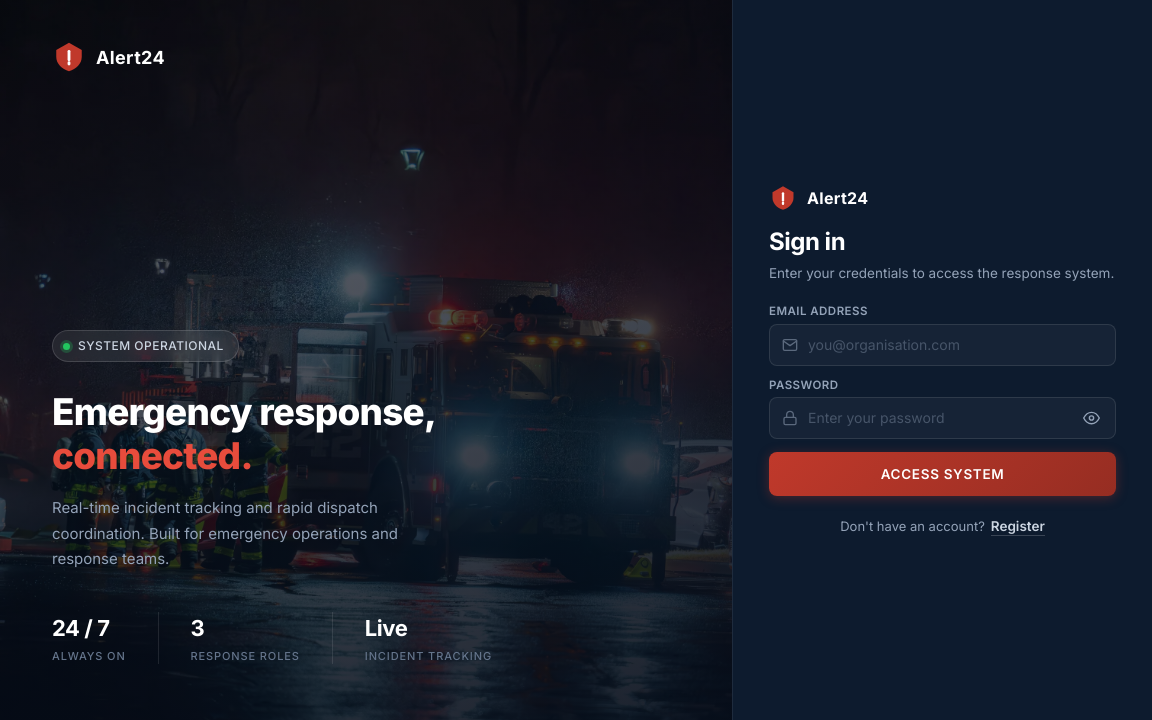
Test case: Alert24 Login and Signup Validation and UI Refinements › login: clearing/editing a field clears its validation error
In the field labelled "Email address": (942, 344) top-left (769, 324), bottom-right (1116, 366), type "bademail"
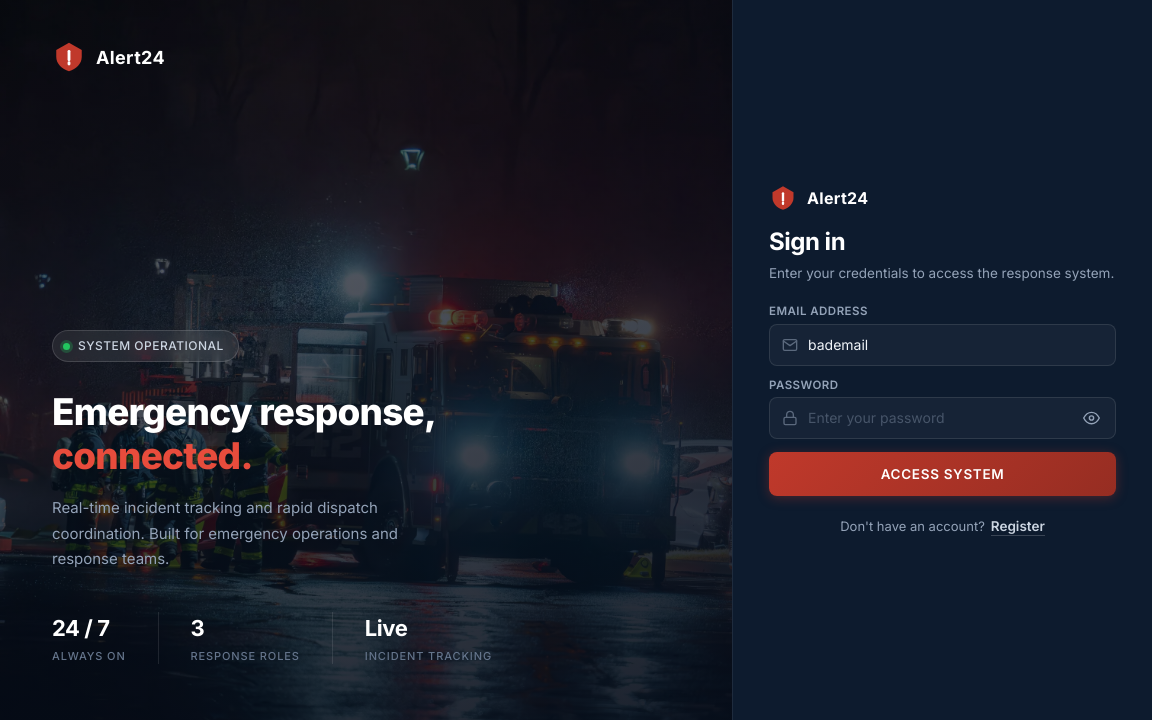
Click the button "Access System": (942, 474) top-left (769, 452), bottom-right (1116, 496)
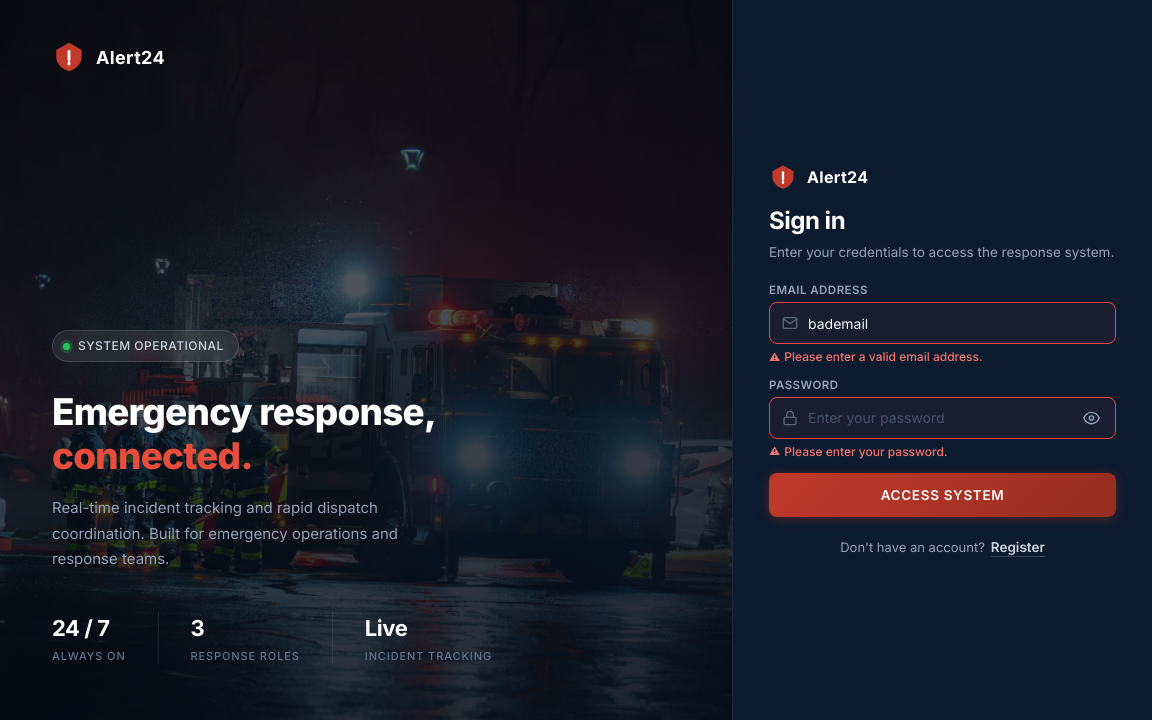
Now the text "Please enter a valid email address." is shown, box top-left (784, 349), bottom-right (983, 364)
// Type a fix
Replace the text in the field labelled "Email address" with "good@example.com": (942, 323) top-left (769, 302), bottom-right (1116, 344)
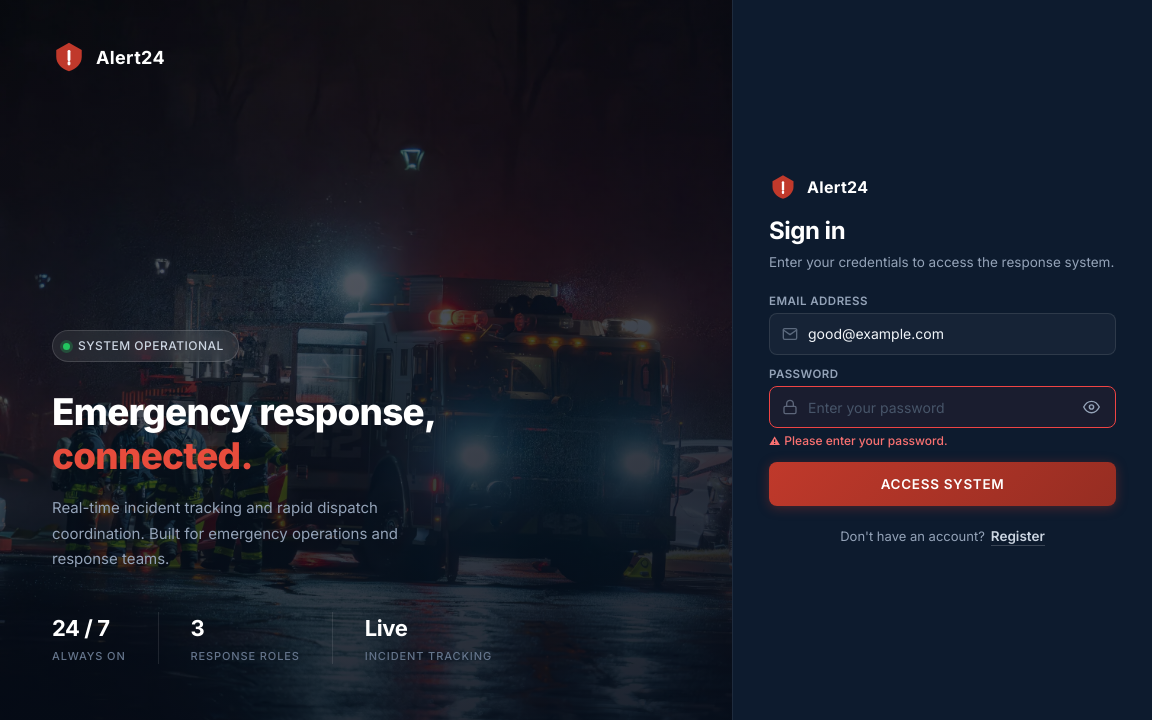
Now the text "Please enter a valid email address." is gone
